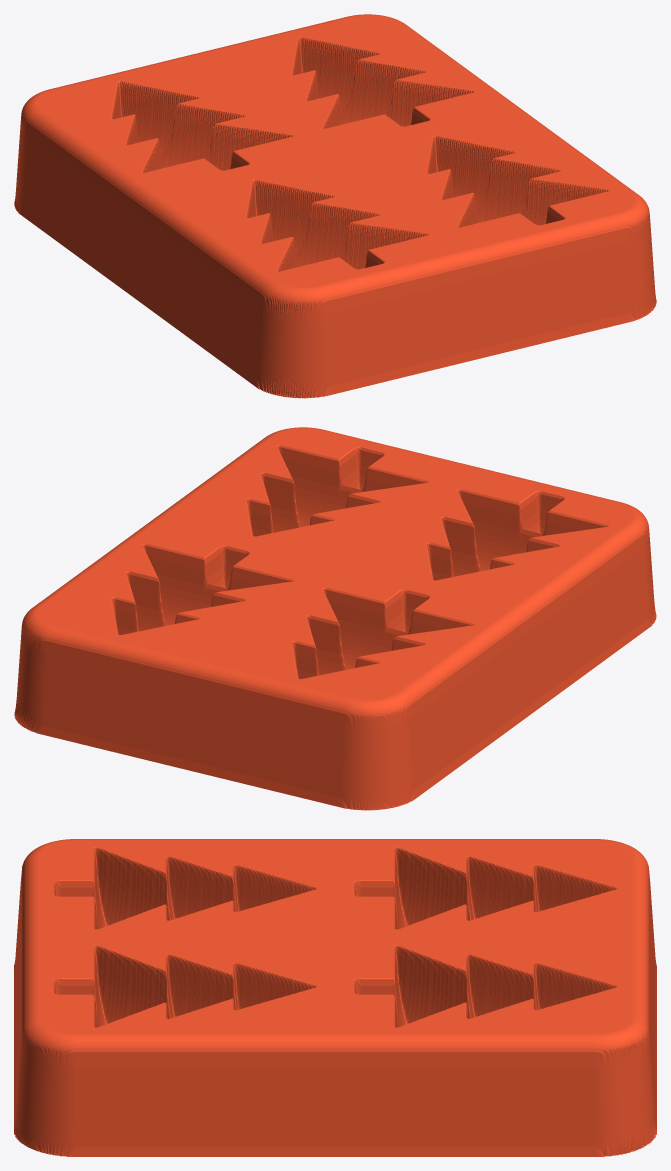
The model's file is mold.glb.
3 renders of one model, top to bottom at view 1: azimuth 30°, elevation 25°; view 2: azimuth 150°, elevation 25°; view 3: azimuth 270°, elevation 25°, orthographic. The views are drawn at different scales.
Parts seen in each view (by area): view 1: geometry_0; view 2: geometry_0; view 3: geometry_0.
Boxes of the visible parts, bbox=[...] form: geometry_0: bbox=[14, 14, 656, 398]; geometry_0: bbox=[14, 427, 656, 810]; geometry_0: bbox=[14, 839, 656, 1156].
Size of the model in its own units: 0.0742 by 0.0182 by 0.0942.
